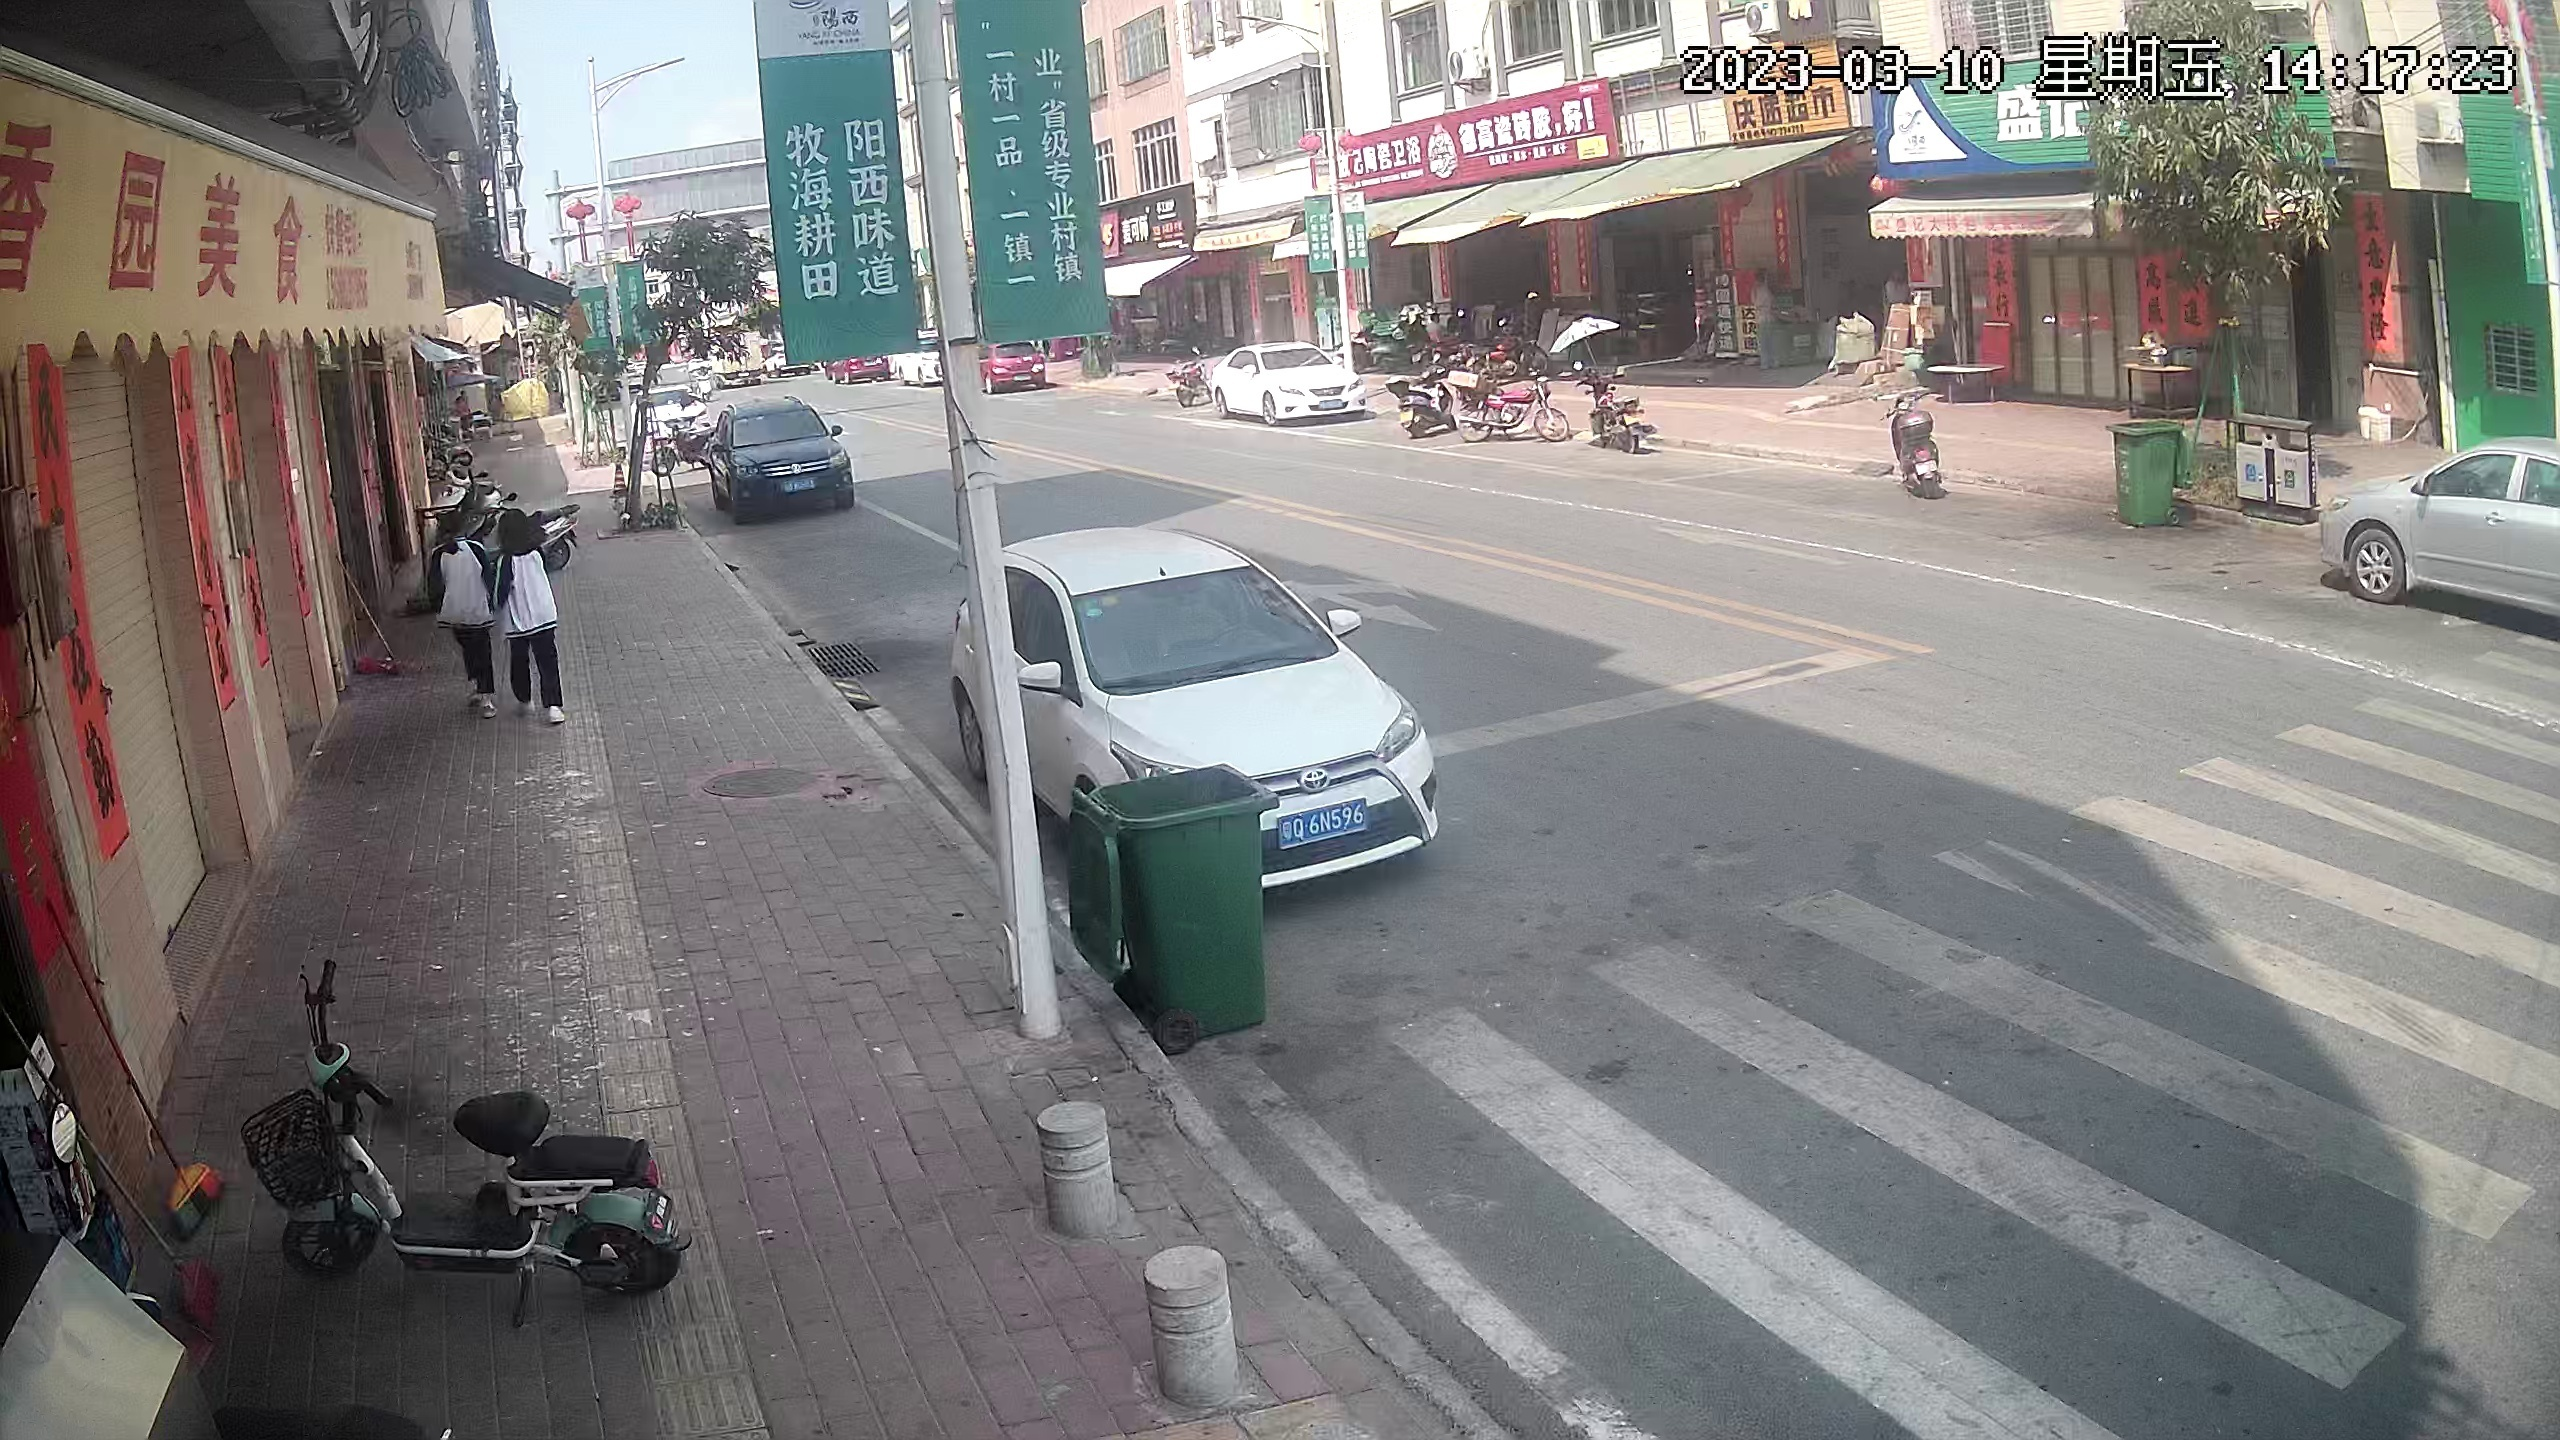motorcycle: (242, 969, 705, 1300), (1464, 382, 1565, 448), (1885, 392, 1947, 498), (454, 480, 573, 529), (1585, 368, 1647, 457), (1395, 362, 1453, 445), (430, 462, 498, 510), (659, 413, 709, 474), (1478, 327, 1538, 375), (1165, 352, 1207, 413), (1424, 327, 1475, 370)
person: (497, 505, 583, 734), (428, 499, 504, 733)
sedan: (947, 535, 1444, 883), (2324, 424, 2560, 628), (1215, 349, 1368, 423), (632, 388, 709, 424), (898, 353, 943, 387)
suv: (710, 399, 857, 517), (983, 345, 1049, 397)
